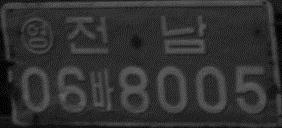0: (155, 65, 189, 114), (193, 65, 227, 114), (19, 65, 51, 112)
5: (234, 64, 267, 116)
6: (55, 65, 86, 113)
8: (117, 65, 150, 113)
바: (87, 67, 114, 112)
영: (19, 15, 55, 56)
전남_D: (63, 14, 207, 57)
